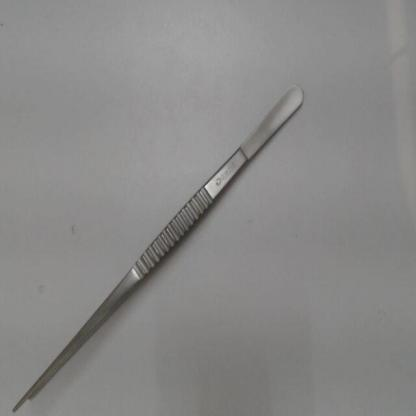DeBakey Dissector: (11, 71, 322, 414)
